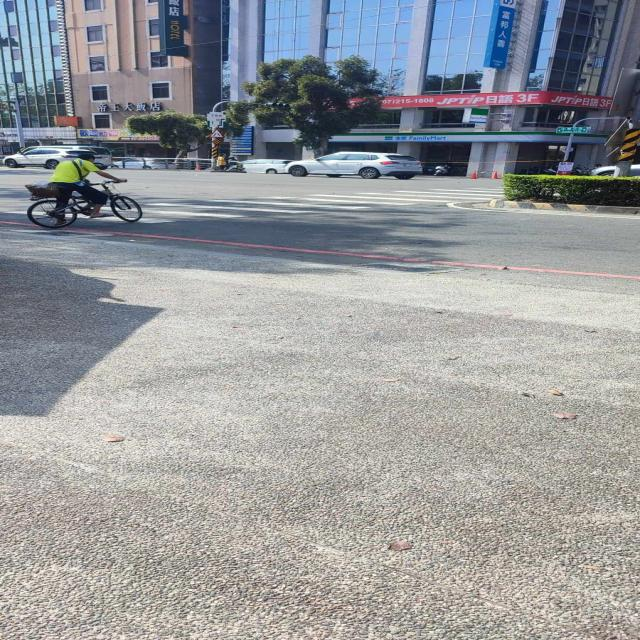zebra_crossing: (0, 125, 400, 324), (53, 107, 158, 302)
